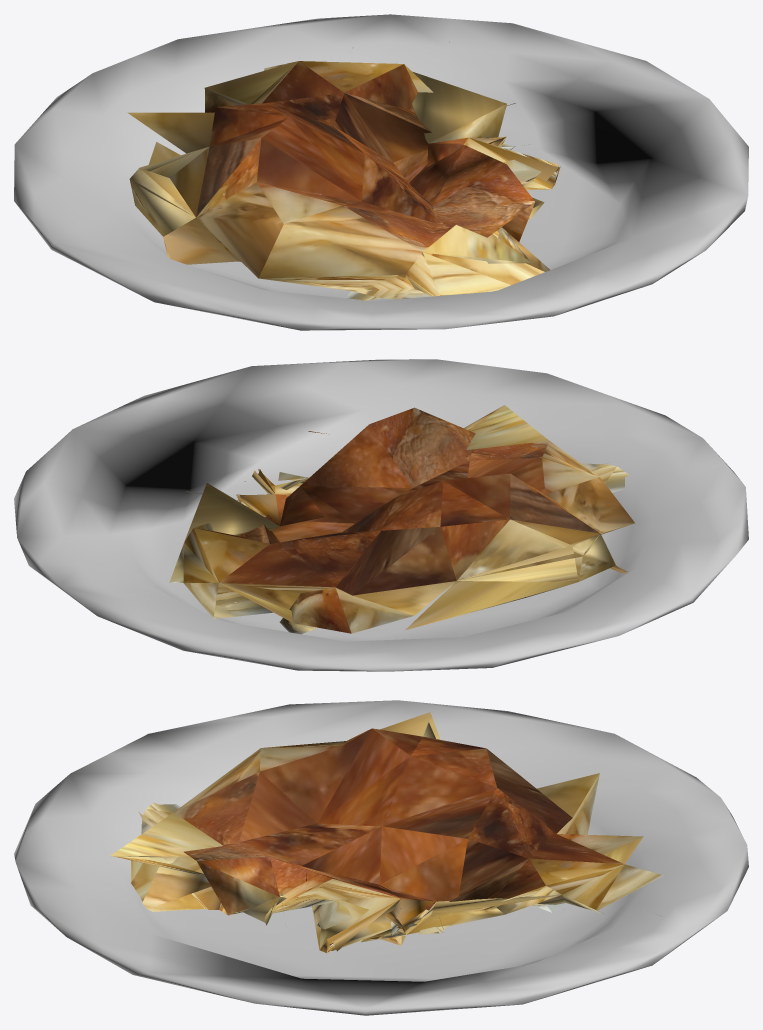
Rendered from plateWithFood2Eaten1.fbx.
3 views of the same model, one above another, from view 1: azimuth 30°, elevation 25°; view 2: azimuth 150°, elevation 25°; view 3: azimuth 270°, elevation 25° (orthographic).
Parts seen in each view (by area): view 1: Dish_Circle; view 2: Dish_Circle; view 3: Dish_Circle.
Boxes of the visible parts, bbox=[...] form: Dish_Circle: bbox=[14, 14, 748, 330]; Dish_Circle: bbox=[14, 359, 748, 671]; Dish_Circle: bbox=[14, 700, 748, 1015].
Size of the model in its own units: 116 by 19.24 by 116.
